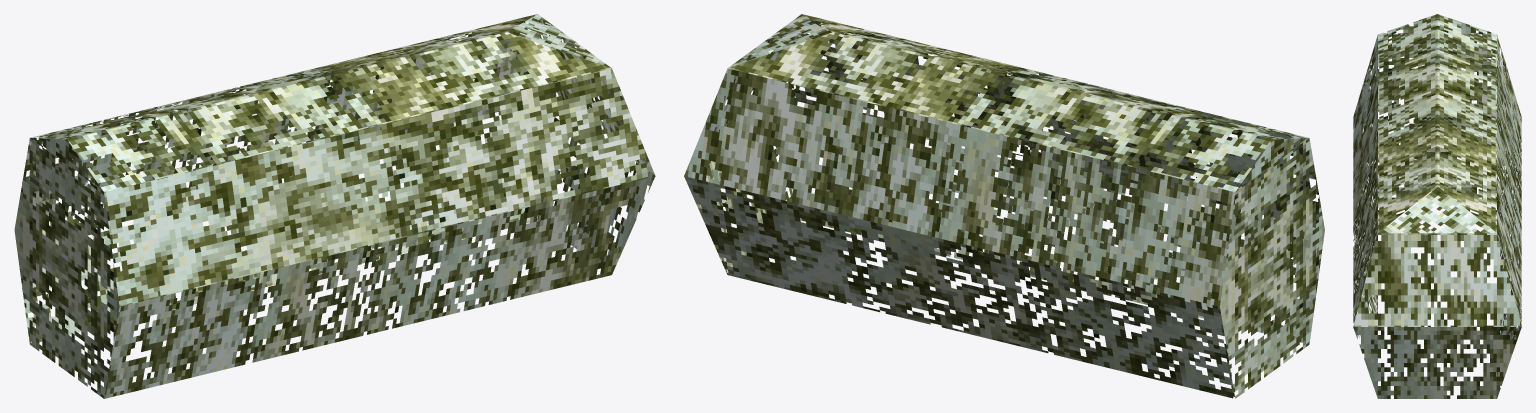
The model's file is bush_long_open_right_winter.glb.
The picture shows the model from 3 angles, left to right: view 1: azimuth 30°, elevation 25°; view 2: azimuth 150°, elevation 25°; view 3: azimuth 270°, elevation 25°; orthographic projection. The views are drawn at different scales.
Parts seen in each view (by area): view 1: bush_long_open_right_winter; view 2: bush_long_open_right_winter; view 3: bush_long_open_right_winter.
Part boxes in pixels (left/top/right/bottom): bush_long_open_right_winter: left=14, top=14, right=655, bottom=398; bush_long_open_right_winter: left=684, top=14, right=1324, bottom=398; bush_long_open_right_winter: left=1353, top=14, right=1521, bottom=398.
Size of the model in its own units: 2.12 by 0.8765 by 0.7192.
Materials: 1 (1 with a texture image).
